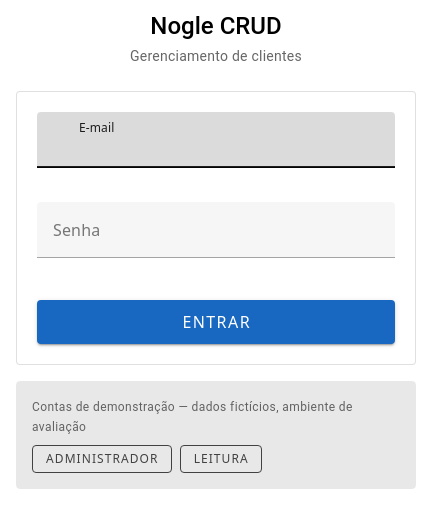
autenticação › exibe o erro de credencial devolvido pela API
Type "admin@nogle.test" into the field labelled "E-mail".
click(234, 140); type("admin@nogle.test")  # box [73,112,395,168]
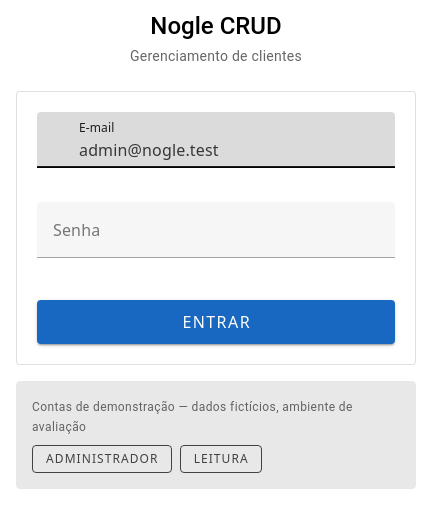
Type "senha123" into the password field labelled "Senha".
click(198, 230); type("senha123")  # box [37,202,359,258]
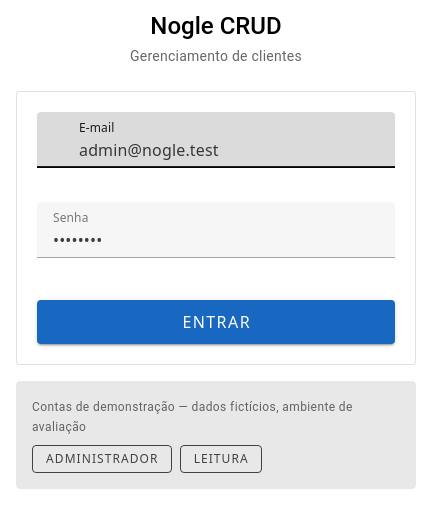
Click the button "Entrar".
click(216, 322)  # box [37,300,395,344]
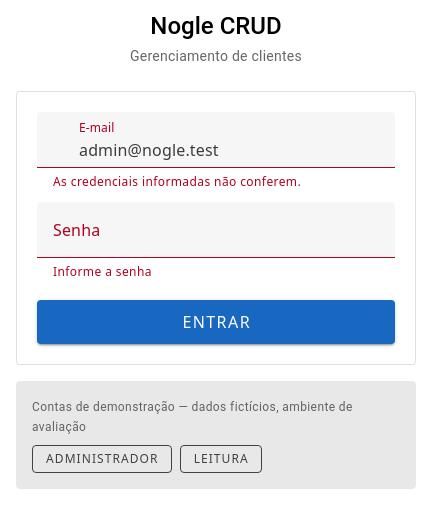
Check: the text "As credenciais informadas não conferem." is shown, box [53,173,301,190]
